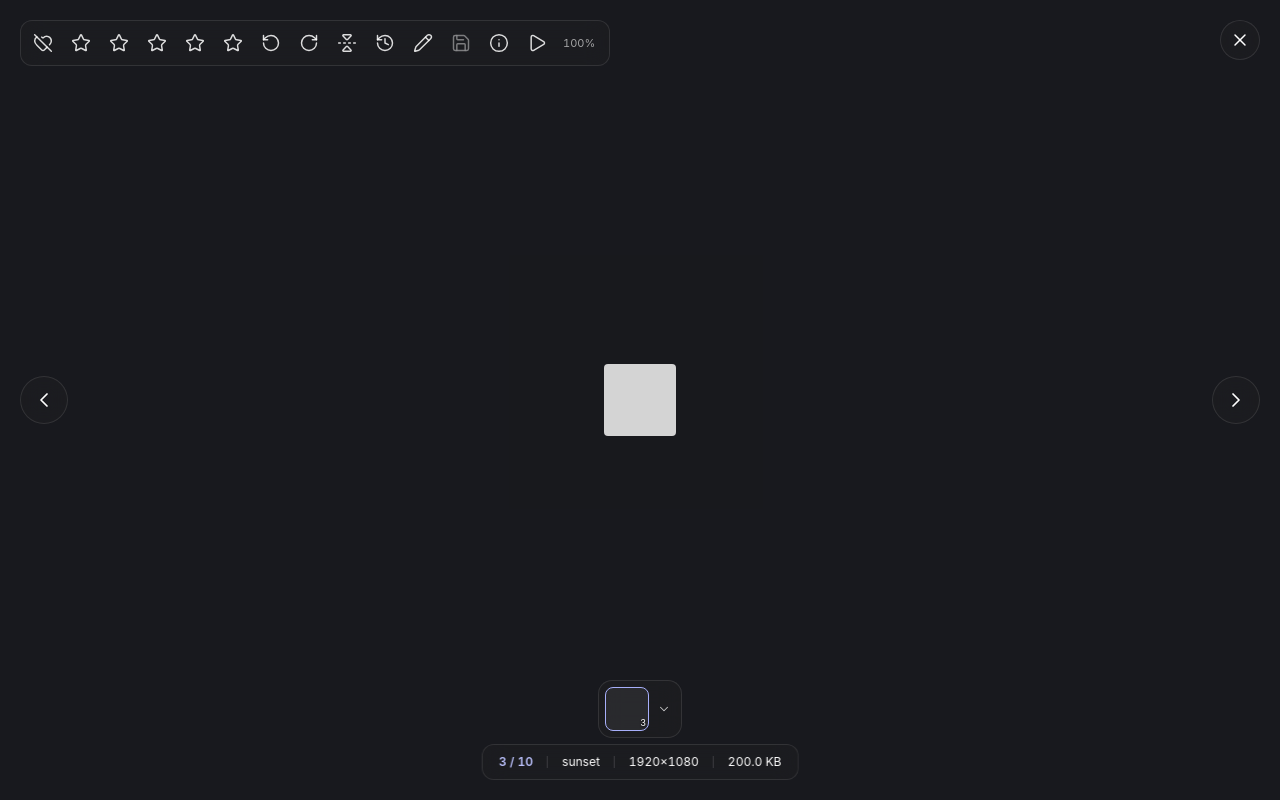
it: ImageViewer 幻灯片放映 › 角标点按切换间隔 3/5/10：切 10s 后 5s 不翻、10s 翻
The width and height of the screenshot is (1280, 800).
Click the button titled "幻灯片放映" at (537, 43), box [519,25,555,61]
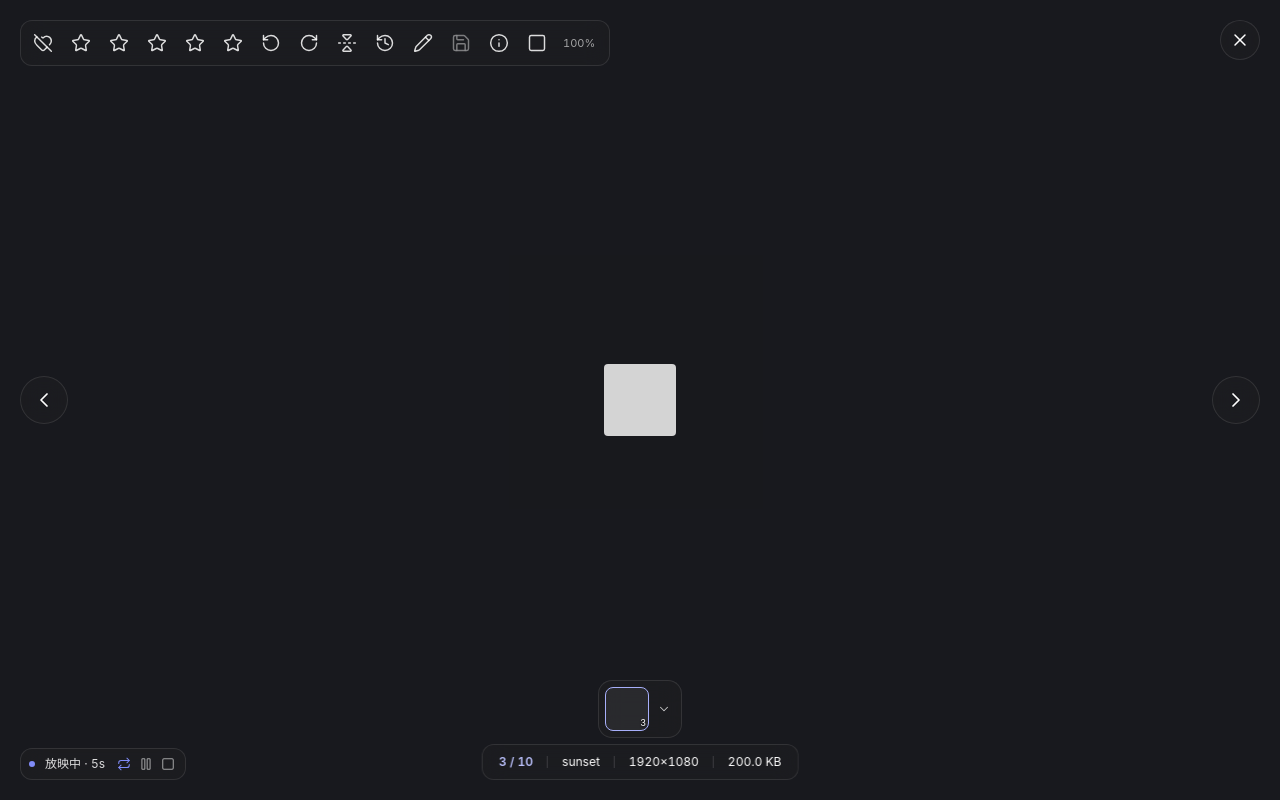
Click the button titled "点击切换间隔（3 / 5 / 10 秒）" at (75, 764), box [39,753,111,775]
Wait 10000 ms
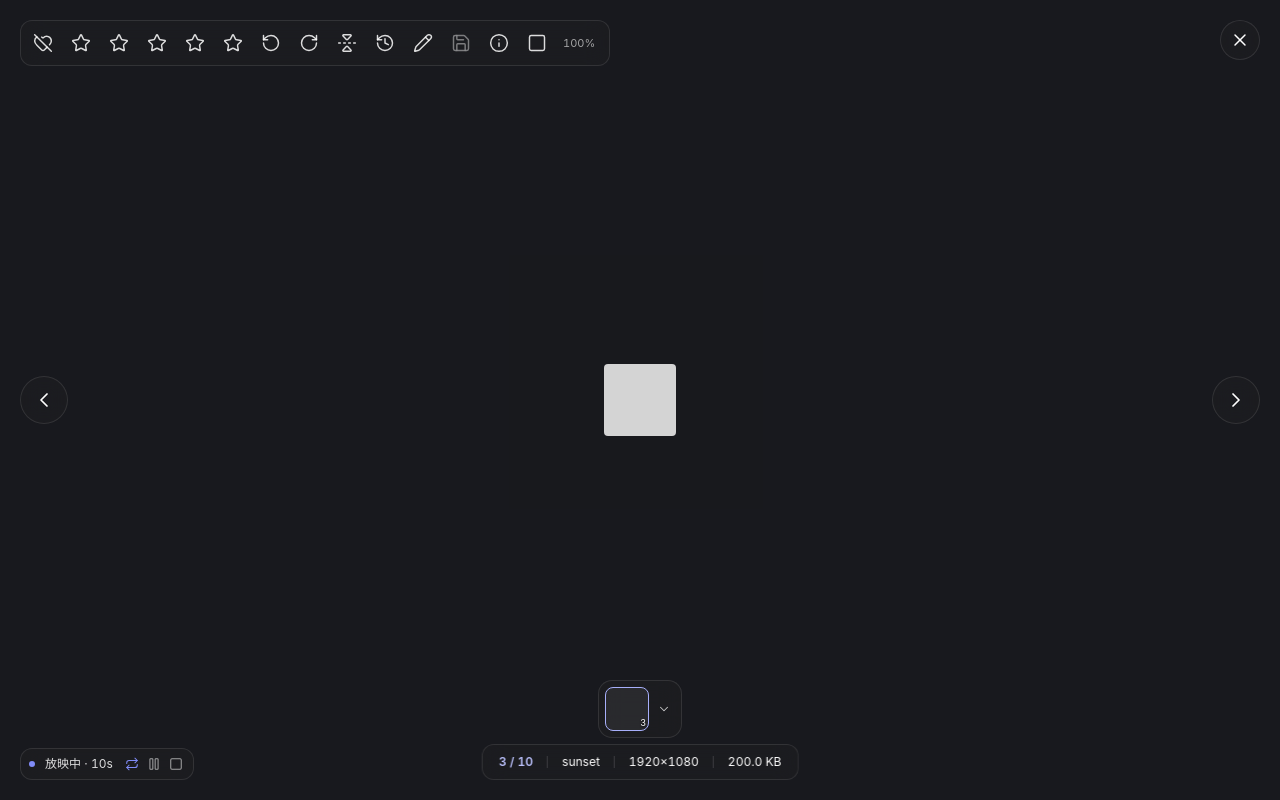
Now the button "放映中 · 10s" is shown
Click the button titled "点击切换间隔（3 / 5 / 10 秒）" at (79, 764), box [39,753,119,775]
Wait 3000 ms
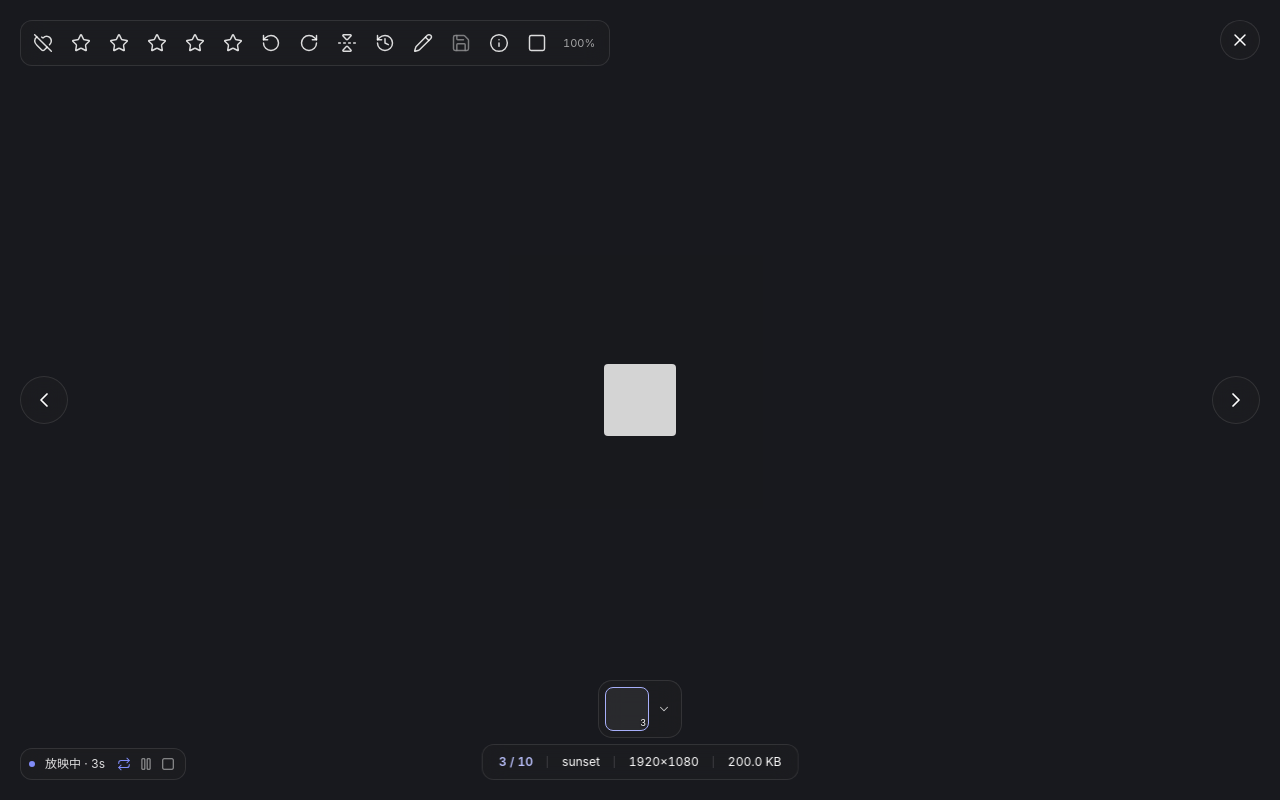
Now the button "放映中 · 3s" is shown, box [39,753,111,775]
